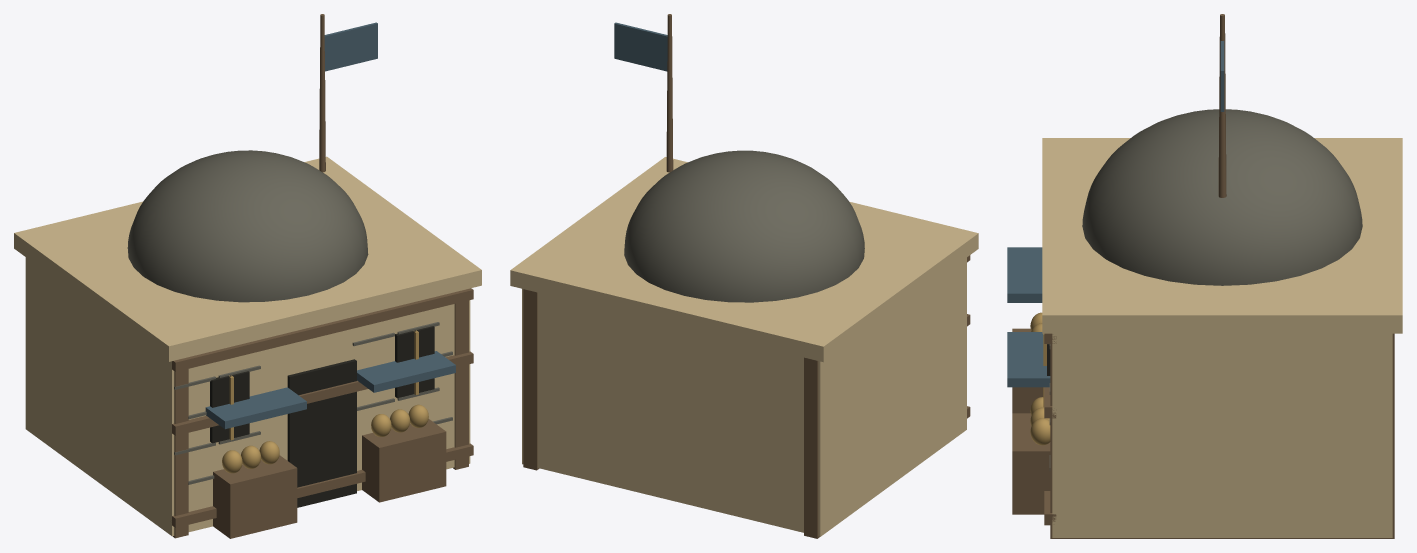
File: b-market-ayyubid.glb
3 views of the same model, side by side, from view 1: azimuth 30°, elevation 25°; view 2: azimuth 150°, elevation 25°; view 3: azimuth 270°, elevation 25° (orthographic). The views are drawn at different scales.
Parts seen in each view (by area): view 1: Structure; view 2: Structure; view 3: Structure.
Boxes of the visible parts, x1,y1,x2,y2 form: Structure: (14,14,481,538); Structure: (510,14,978,538); Structure: (1007,14,1402,538).
Size of the model in its own units: 4.2 by 5.33 by 3.95.
